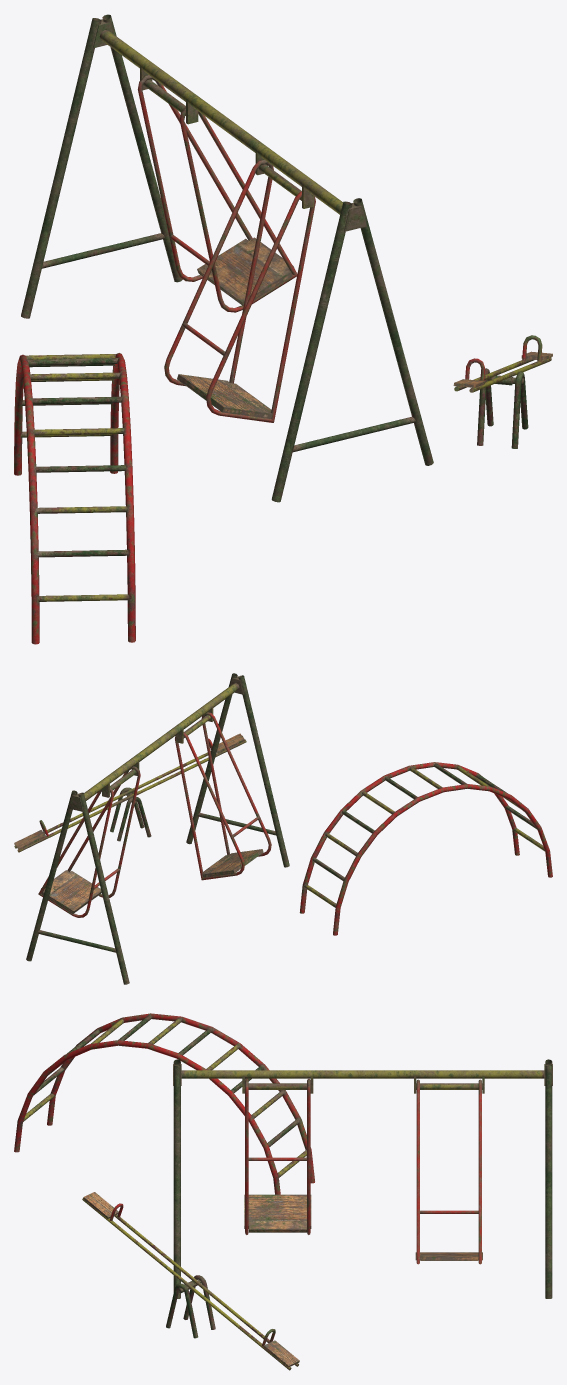
Rendered from playground_set.gltf.
3 renders of one model, top to bottom at view 1: azimuth 30°, elevation 25°; view 2: azimuth 150°, elevation 25°; view 3: azimuth 270°, elevation 25°, orthographic. The views are drawn at different scales.
Parts seen in each view (by area): view 1: playground_set; view 2: playground_set; view 3: playground_set.
Boxes of the visible parts, x1=… form: playground_set: x1=14, y1=14, x2=552, y2=644; playground_set: x1=14, y1=673, x2=552, y2=984; playground_set: x1=14, y1=1013, x2=552, y2=1370.
Size of the model in its own units: 5.05 by 2 by 4.67.
Materials: 1 (1 with a texture image).
